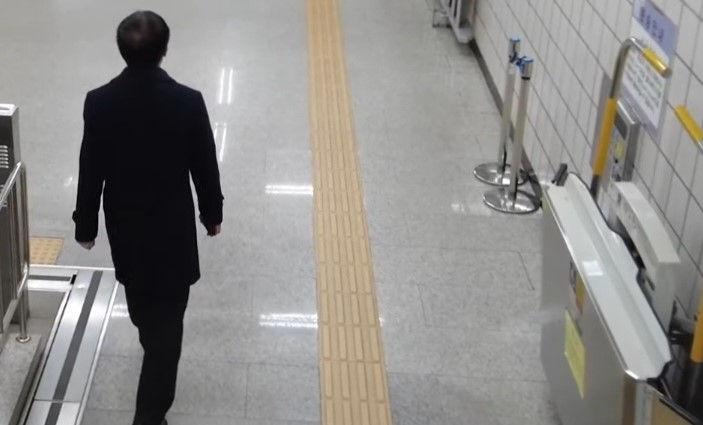guideBlock: (320, 358, 382, 403), (320, 326, 378, 369), (313, 293, 374, 330), (317, 236, 369, 272), (312, 122, 365, 155), (316, 267, 372, 297), (314, 156, 359, 192), (314, 191, 367, 221), (315, 172, 363, 205), (310, 214, 369, 240), (312, 135, 358, 163)
